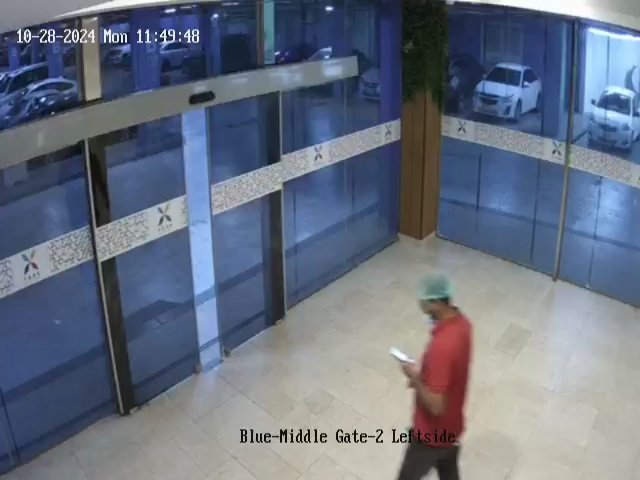male: (385, 281, 473, 480)
